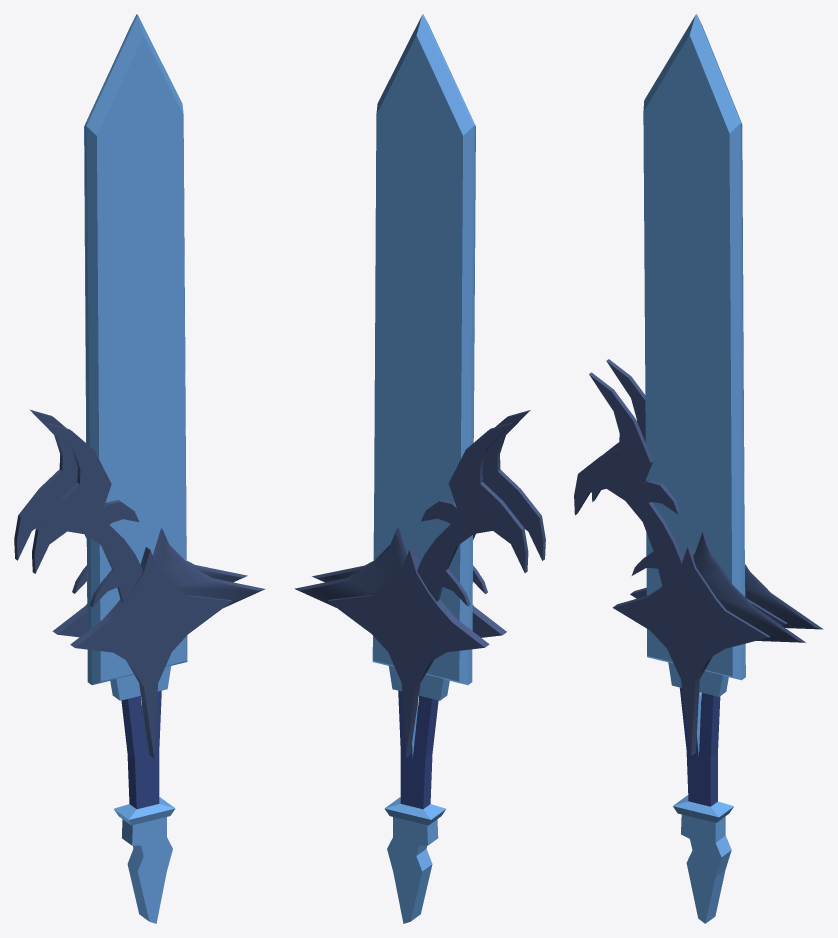
The model's file is item_sword_diamond_model.fbx.
3 views of the same model, side by side, from view 1: azimuth 30°, elevation 25°; view 2: azimuth 150°, elevation 25°; view 3: azimuth 330°, elevation 25° (orthographic).
Parts seen in each view (by area): view 1: sword_diamond_A.; view 2: sword_diamond_A.; view 3: sword_diamond_A..
Boxes of the visible parts, x1=… form: sword_diamond_A.: x1=14, y1=14, x2=265, y2=923; sword_diamond_A.: x1=294, y1=14, x2=545, y2=923; sword_diamond_A.: x1=574, y1=14, x2=823, y2=923.
Size of the model in its own units: 0.5109 by 1.91 by 0.0847.
